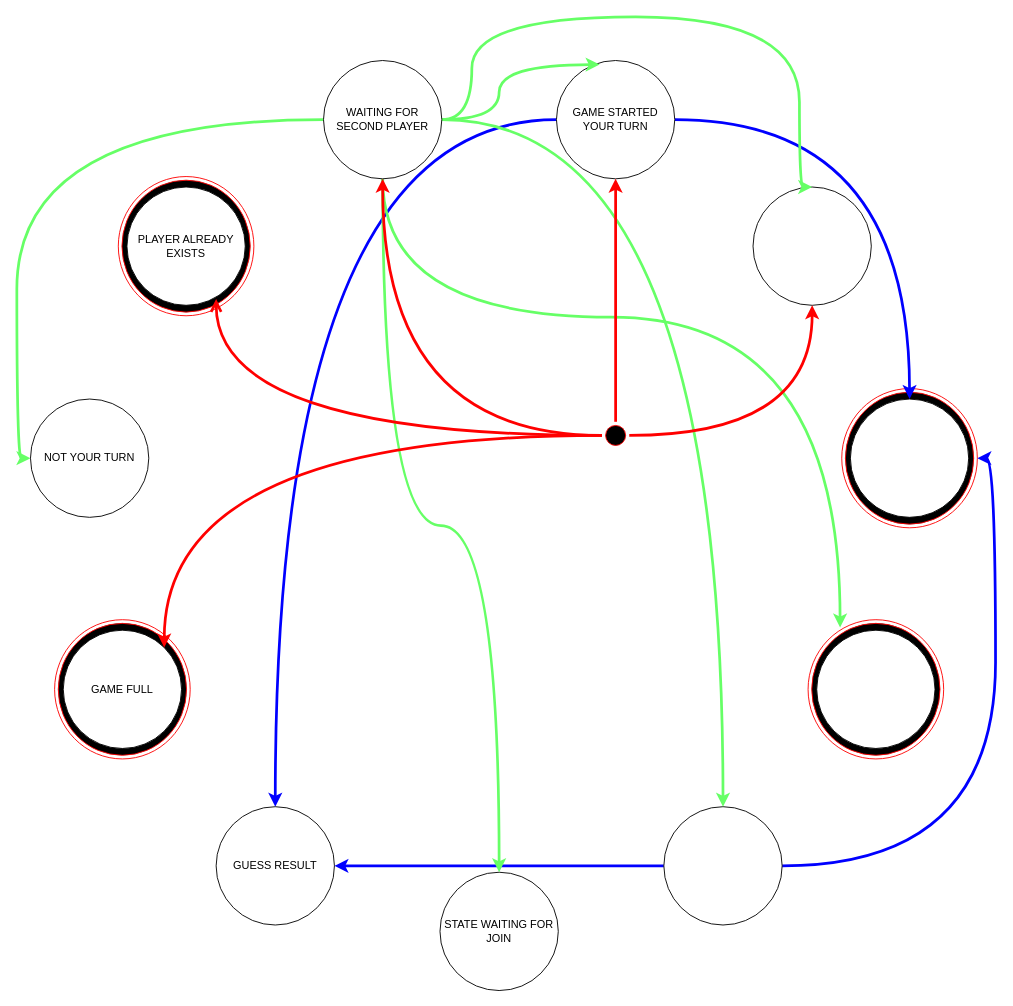
This 1013x1006 diagram has some shape labels left out. Each missing label, with the centre of its shape:
"GAME OVER" goes at point 875,688.
"GAME STARTED WAIT FOR TURN" goes at point 811,245.
"STATE WAITING FOR GUESS" goes at point 722,865.
"YOU WON" goes at point 909,457.
